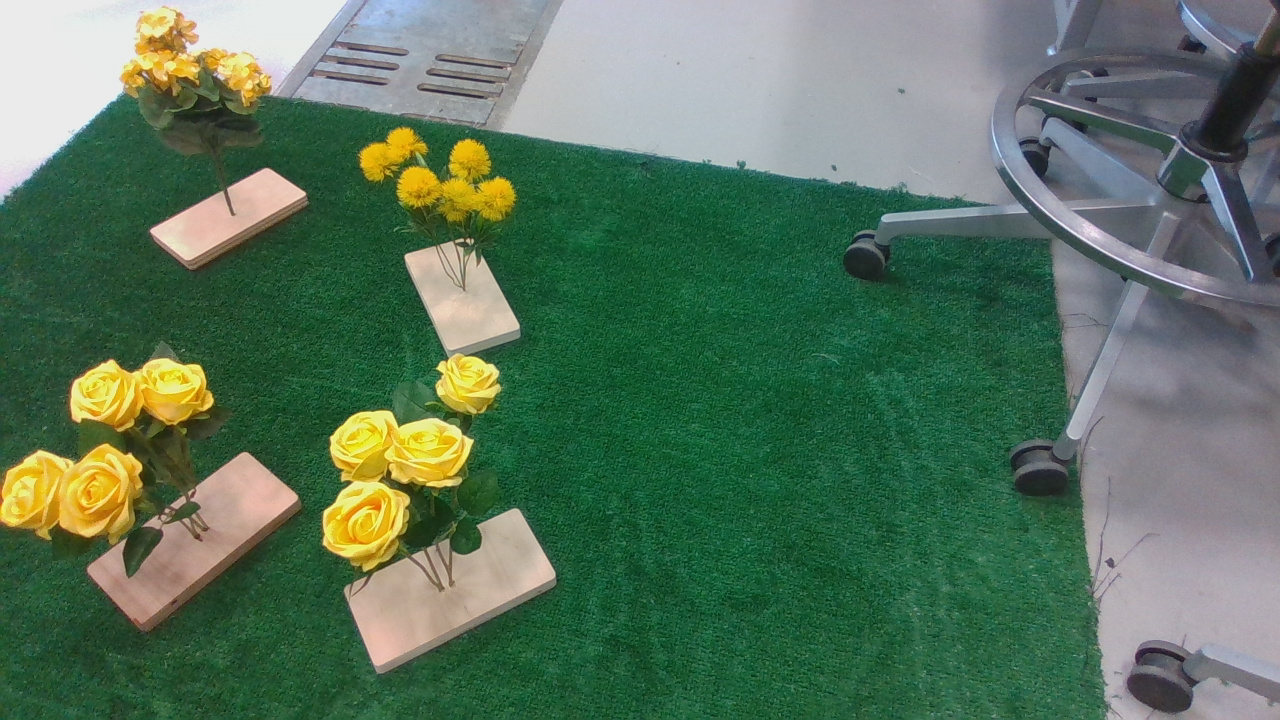dandelion: (355, 126, 527, 257)
geranium: (121, 7, 286, 184)
rose: (2, 342, 240, 586), (313, 352, 529, 601)
